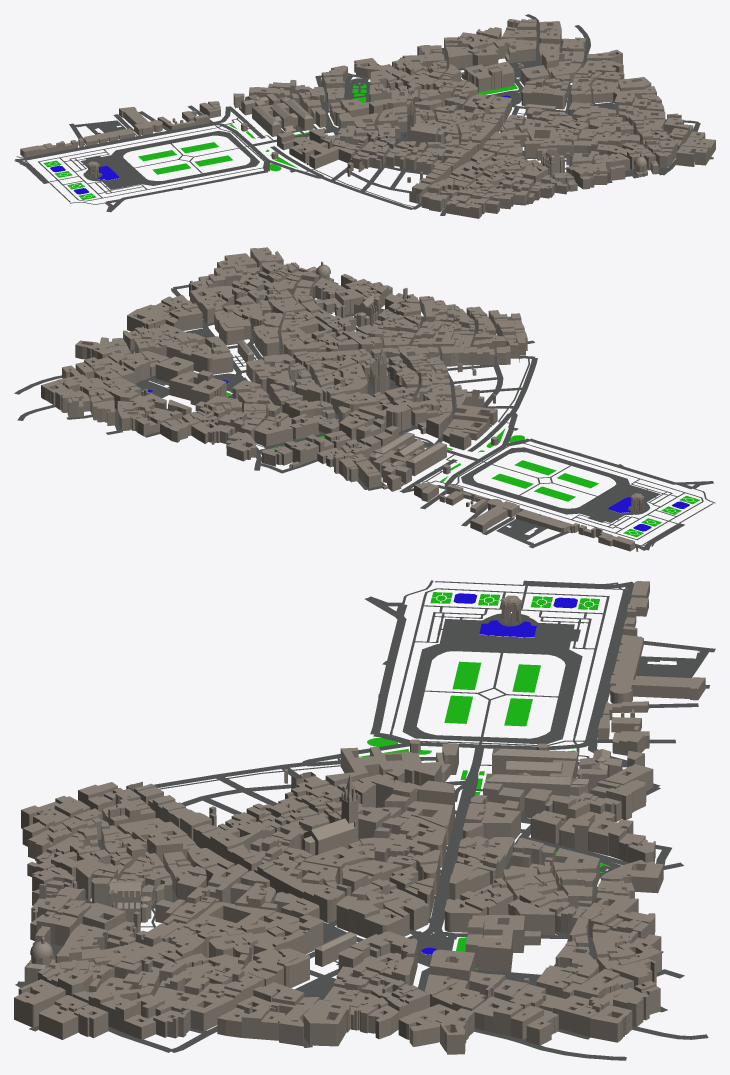
The model's file is mtp.fbx.
3 views of the same model, one above another, from view 1: azimuth 30°, elevation 25°; view 2: azimuth 150°, elevation 25°; view 3: azimuth 270°, elevation 25° (orthographic). The views are drawn at different scales.
Parts seen in each view (by area): view 1: map.osm_buildings, map.osm_roads_pedestrian, map.osm_areas_pedestrian, map.osm_paths_footway, map.osm_vegetation, map.osm_roads_residential, map.osm_roads_tertiary, map.osm_water; view 2: map.osm_buildings, map.osm_roads_pedestrian, map.osm_areas_pedestrian, map.osm_paths_footway, map.osm_roads_residential, map.osm_vegetation; view 3: map.osm_buildings, map.osm_areas_pedestrian, map.osm_roads_pedestrian, map.osm_paths_footway, map.osm_roads_residential, map.osm_vegetation, map.osm_roads_tertiary, map.osm_water.
Boxes of the visible parts, x1,y1,x2,y2 form: map.osm_buildings: [20, 19, 715, 218]; map.osm_roads_pedestrian: [69, 14, 713, 215]; map.osm_areas_pedestrian: [75, 62, 667, 189]; map.osm_paths_footway: [19, 63, 571, 207]; map.osm_vegetation: [43, 84, 517, 199]; map.osm_roads_residential: [14, 79, 523, 212]; map.osm_roads_tertiary: [15, 105, 214, 160]; map.osm_water: [50, 95, 566, 194]; map.osm_buildings: [41, 247, 644, 551]; map.osm_roads_pedestrian: [14, 282, 569, 548]; map.osm_areas_pedestrian: [131, 328, 660, 545]; map.osm_paths_footway: [137, 313, 715, 547]; map.osm_roads_residential: [150, 373, 713, 550]; map.osm_vegetation: [226, 392, 699, 537]; map.osm_buildings: [14, 581, 705, 1054]; map.osm_areas_pedestrian: [15, 613, 708, 999]; map.osm_roads_pedestrian: [17, 641, 715, 1060]; map.osm_paths_footway: [140, 580, 632, 982]; map.osm_roads_residential: [358, 581, 698, 990]; map.osm_vegetation: [359, 592, 609, 969]; map.osm_roads_tertiary: [586, 583, 675, 743]; map.osm_water: [421, 593, 577, 954].
Size of the model in its own units: 88943 by 6700 by 54941.
